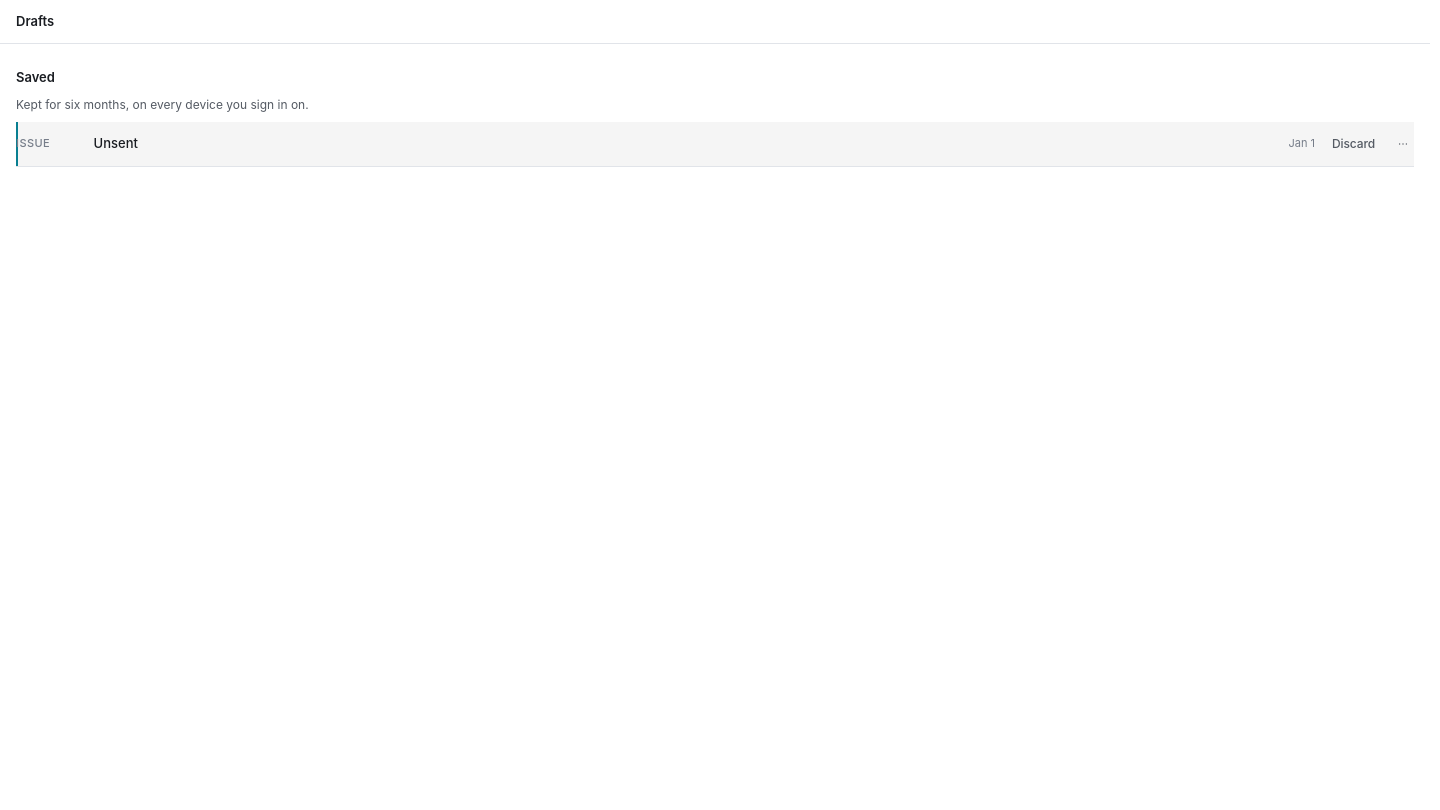
Test: Drafts › says so when a saved draft cannot be discarded, and offers another go
The image size is (1440, 810).
Step 1. Click the button "Discard" → {"x": 1354, "y": 144}, box [1323,132,1384,154]
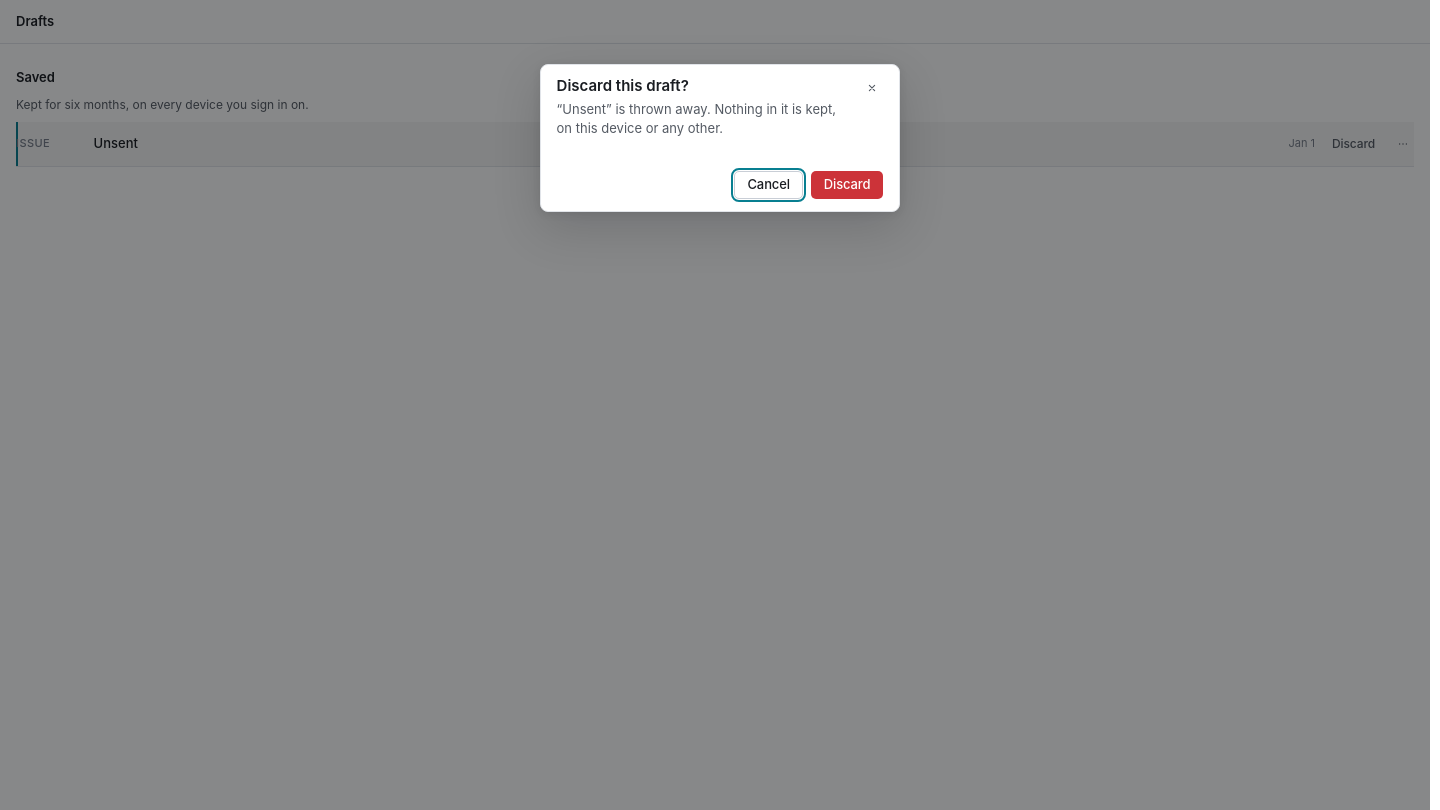
Step 2. Click the button "Discard" → {"x": 847, "y": 185}, box [811,171,883,199]
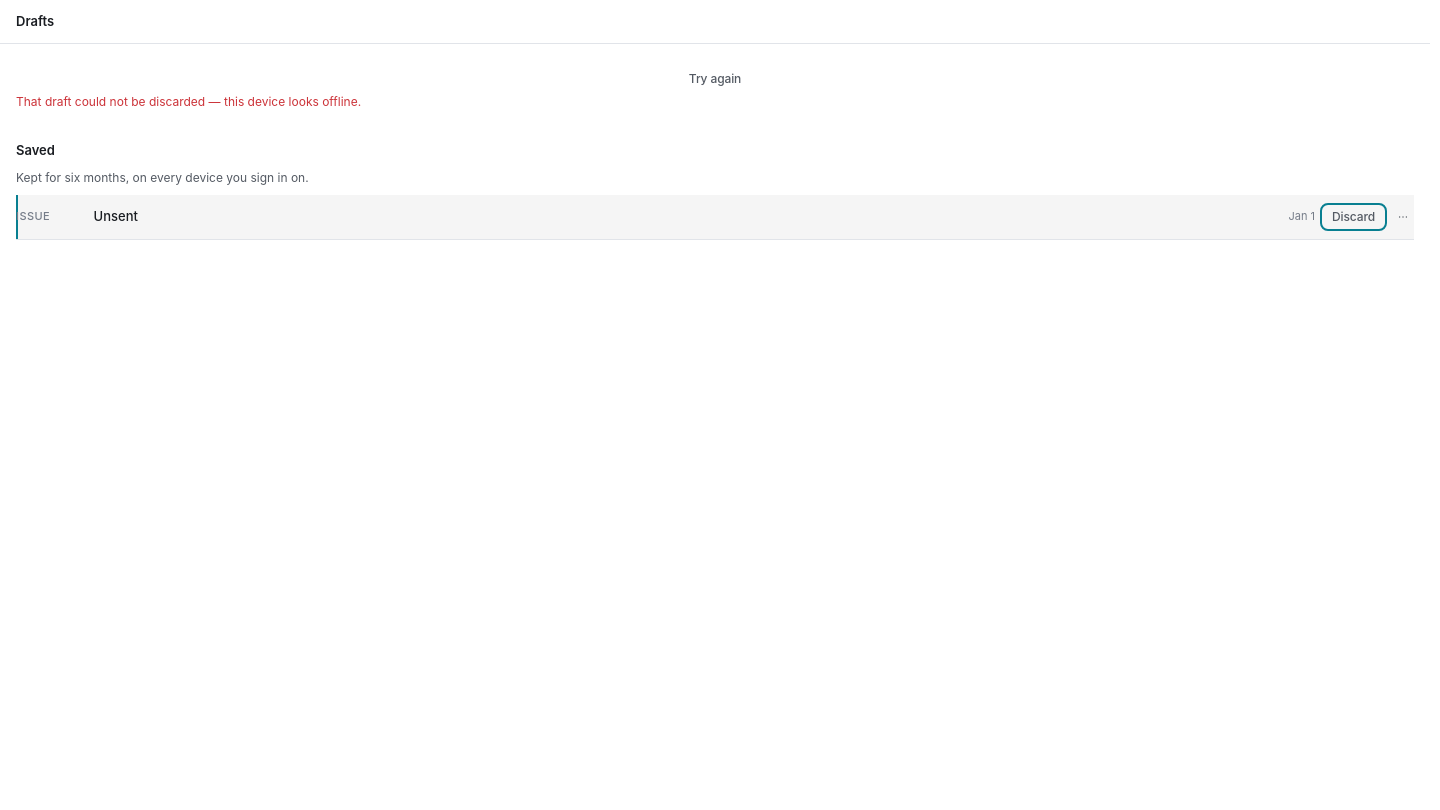
Check: the message shows "could not be discarded", box [16,94,361,109]
Check: the button "Try again" is shown, box [16,68,1414,90]
